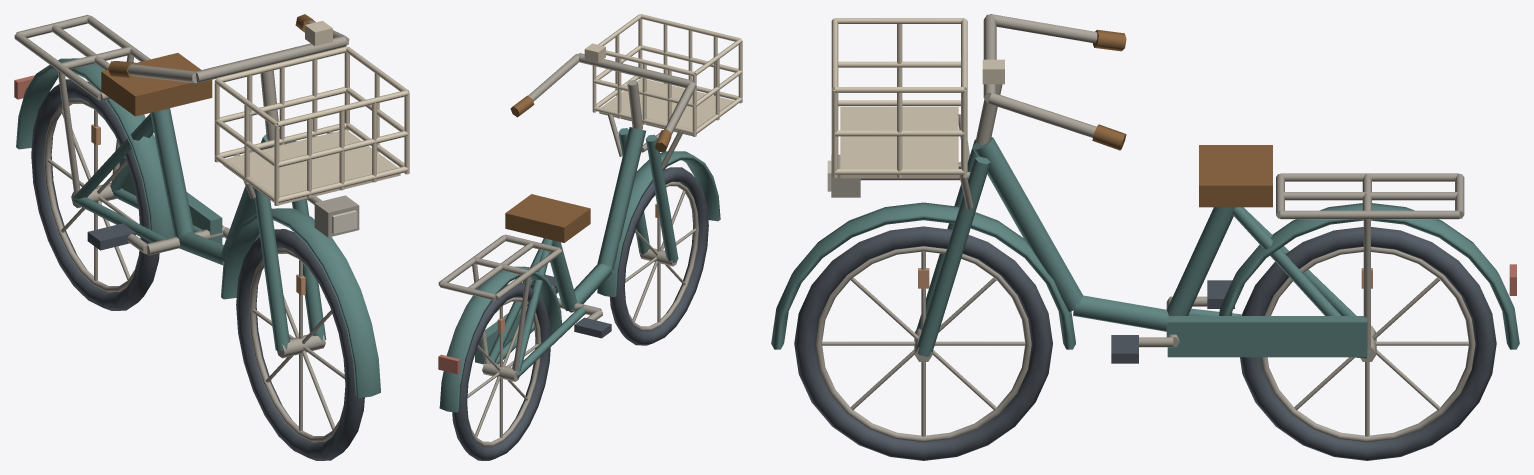
Rendered from komachi-bicycle.glb.
3 views of the same model, side by side, from view 1: azimuth 30°, elevation 25°; view 2: azimuth 150°, elevation 25°; view 3: azimuth 270°, elevation 25° (orthographic). The views are drawn at different scales.
Parts seen in each view (by area): view 1: Frame, Front_Wheel, Rear_Wheel, Left_Pedal, Crank; view 2: Frame, Front_Wheel, Rear_Wheel, Left_Pedal; view 3: Frame, Front_Wheel, Rear_Wheel, Right_Pedal.
Part boxes in pixels (bbox=[...]): Frame: bbox=[14, 14, 409, 397]; Front_Wheel: bbox=[236, 229, 364, 460]; Rear_Wheel: bbox=[31, 79, 159, 310]; Left_Pedal: bbox=[87, 223, 135, 250]; Crank: bbox=[127, 225, 229, 255]; Frame: bbox=[438, 14, 742, 412]; Front_Wheel: bbox=[610, 167, 708, 345]; Rear_Wheel: bbox=[452, 282, 550, 460]; Left_Pedal: bbox=[574, 317, 611, 338]; Frame: bbox=[771, 14, 1519, 358]; Front_Wheel: bbox=[794, 226, 1052, 460]; Rear_Wheel: bbox=[1240, 227, 1496, 460]; Right_Pedal: bbox=[1111, 335, 1138, 363].
Size of the model in its own units: 0.1375 by 0.2525 by 0.405.
